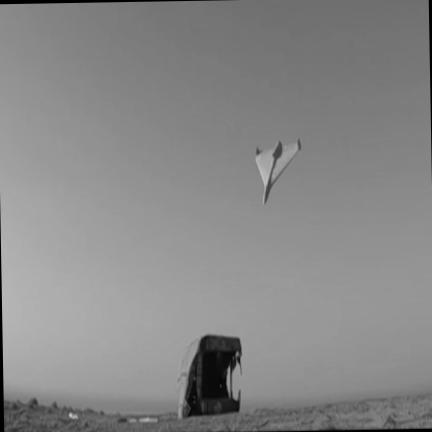Shahed: (255, 139, 300, 204)
